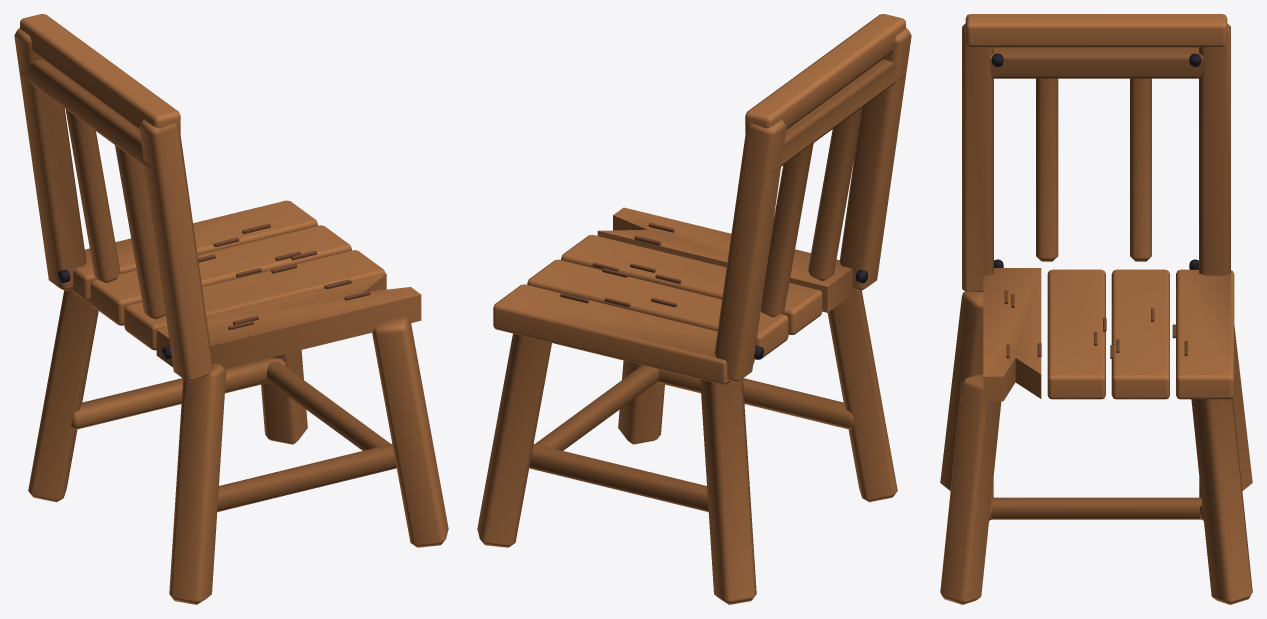
3 views of the same model, side by side, from view 1: azimuth 30°, elevation 25°; view 2: azimuth 150°, elevation 25°; view 3: azimuth 270°, elevation 25° (orthographic). The views are drawn at different scales.
Visible parts, largest first — view 1: root_pal_woodWarm, root_pal_leatherShadow; view 2: root_pal_woodWarm, root_pal_leatherShadow; view 3: root_pal_woodWarm, root_pal_leatherShadow, root_pal_uiDark.
Part boxes in pixels (x1=…): root_pal_woodWarm: x1=14, y1=14, x2=448, y2=604; root_pal_leatherShadow: x1=198, y1=223, x2=370, y2=329; root_pal_woodWarm: x1=477, y1=14, x2=911, y2=604; root_pal_leatherShadow: x1=560, y1=223, x2=681, y2=307; root_pal_woodWarm: x1=940, y1=14, x2=1252, y2=604; root_pal_leatherShadow: x1=1004, y1=290, x2=1187, y2=358; root_pal_uiDark: x1=991, y1=53, x2=1201, y2=269.
Size of the model in its own units: 0.6533 by 1.04 by 0.6329.
